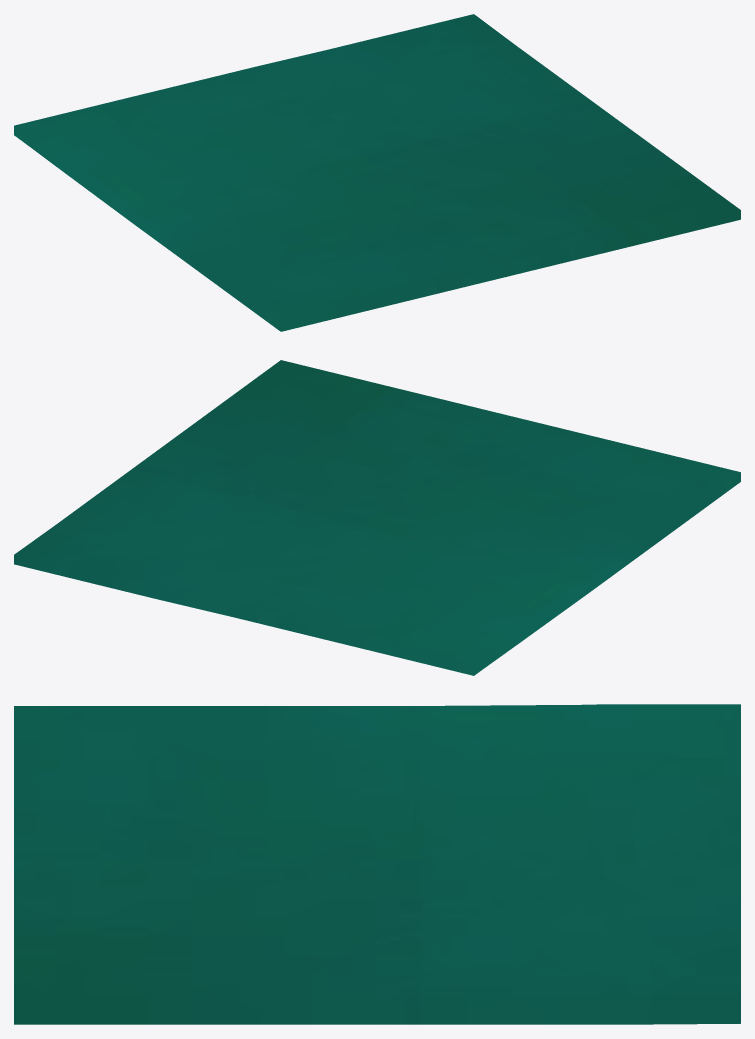
Rendered from z16-10470-25323-h0-yup-uvflip-v3-world.glb.
The picture shows the model from 3 angles, top to bottom: view 1: azimuth 30°, elevation 25°; view 2: azimuth 150°, elevation 25°; view 3: azimuth 270°, elevation 25°; orthographic projection. The views are drawn at different scales.
Bounding box in the file's own units: 483 × 10.88 × 485.
1 material, 1 textured.
